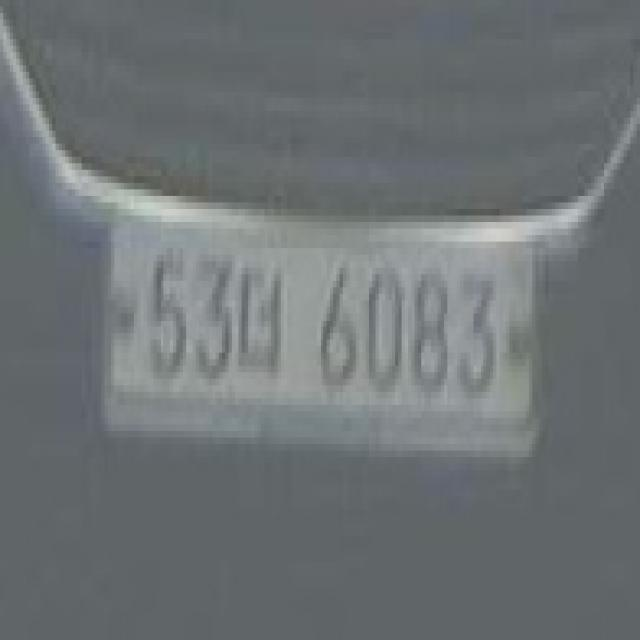0: (356, 242, 408, 405)
3: (454, 255, 503, 405), (186, 235, 232, 379)
5: (140, 235, 190, 379)
6: (307, 262, 359, 386)
8: (408, 268, 457, 398)
deo: (232, 254, 284, 366)
license_plate: (98, 202, 545, 477)
